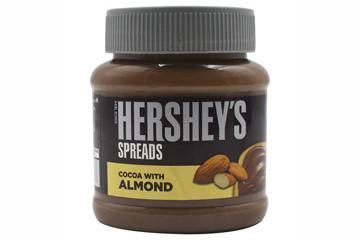Hershey-s: (88, 3, 274, 235)
